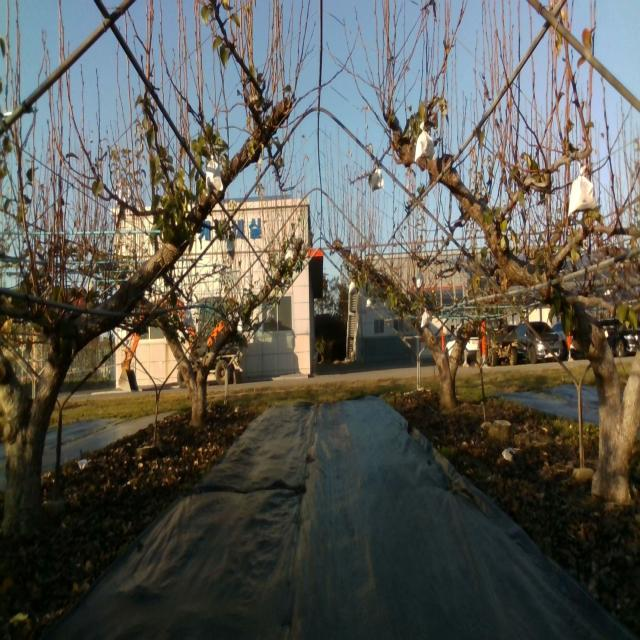pearbags: (564, 167, 598, 214), (415, 123, 436, 161), (206, 154, 223, 198), (372, 166, 384, 191), (183, 309, 195, 328)
